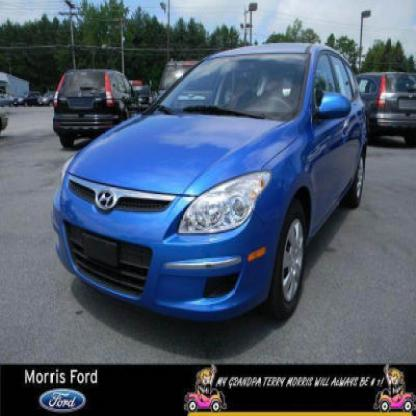Vehicle: (48, 42, 368, 332)
